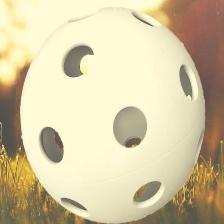Sports-Ball: (19, 9, 204, 224)
